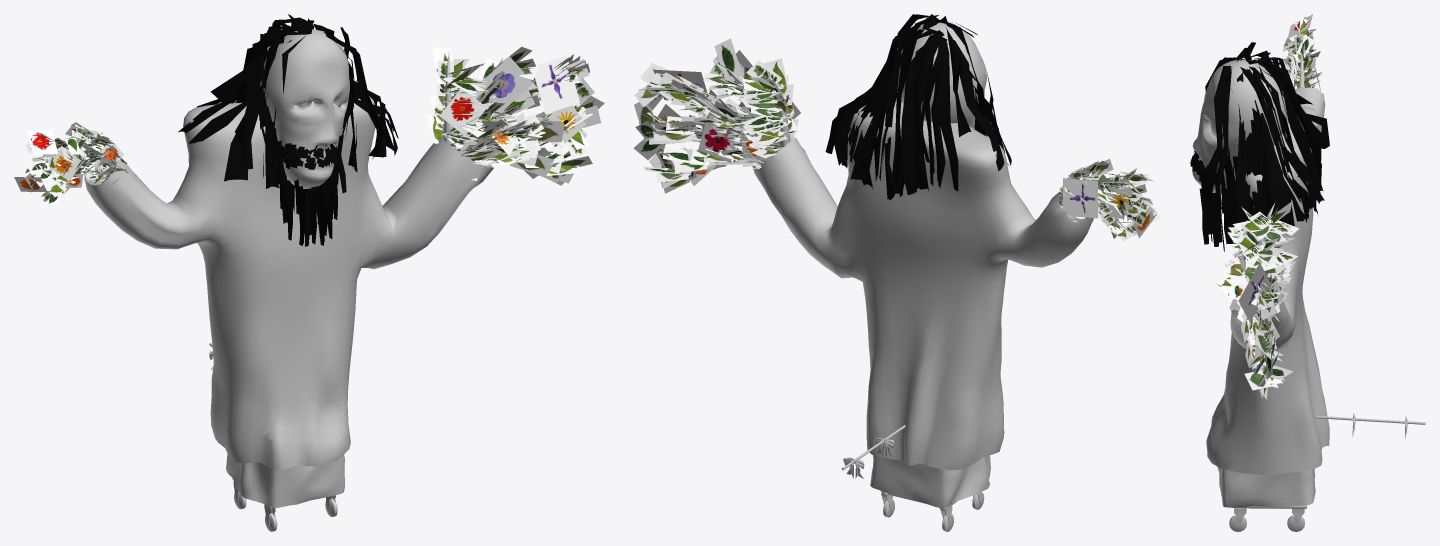
3 views of the same model, side by side, from view 1: azimuth 30°, elevation 25°; view 2: azimuth 150°, elevation 25°; view 3: azimuth 270°, elevation 25° (orthographic). The views are drawn at different scales.
Visible parts, largest first — view 1: Giant; view 2: Giant; view 3: Giant.
Boxes of the visible parts, left/top/right/bottom form: Giant: left=14, top=14, right=604, bottom=531; Giant: left=633, top=14, right=1160, bottom=531; Giant: left=1190, top=14, right=1425, bottom=531.
Bounding box in the file's own units: 5.21 × 4.47 × 2.02.
